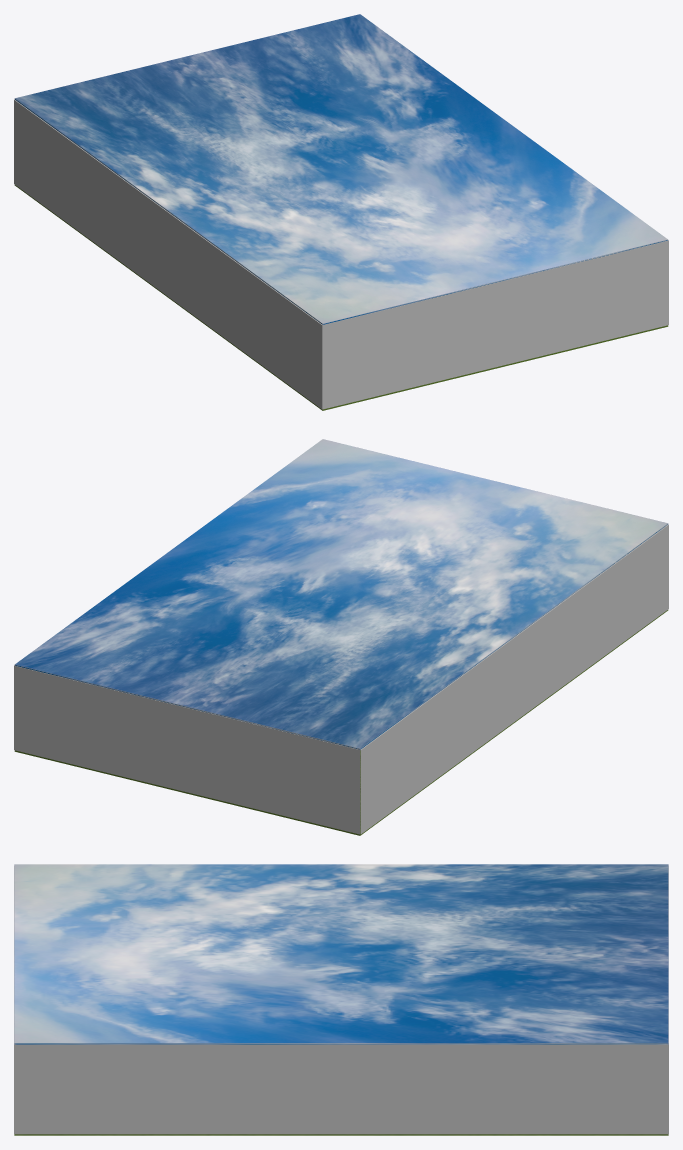
Rendered from Tofu.FBX.
3 views of the same model, one above another, from view 1: azimuth 30°, elevation 25°; view 2: azimuth 150°, elevation 25°; view 3: azimuth 270°, elevation 25° (orthographic). The views are drawn at different scales.
Parts seen in each view (by area): view 1: Box007, Box003, Box004, Box002; view 2: Box007, Box006, Box004, Box002; view 3: Box007, Box005, Box002.
Part boxes in pixels (bbox=[...]): Box007: bbox=[14, 14, 668, 324]; Box003: bbox=[322, 241, 668, 409]; Box004: bbox=[14, 99, 322, 409]; Box002: bbox=[14, 185, 668, 410]; Box007: bbox=[14, 439, 668, 749]; Box006: bbox=[14, 666, 359, 834]; Box004: bbox=[360, 524, 668, 834]; Box002: bbox=[14, 610, 668, 835]; Box007: bbox=[14, 864, 668, 1044]; Box005: bbox=[14, 1044, 668, 1134]; Box002: bbox=[14, 1134, 668, 1135].
Bounding box in the file's own units: 19466 × 29977 × 4673.
